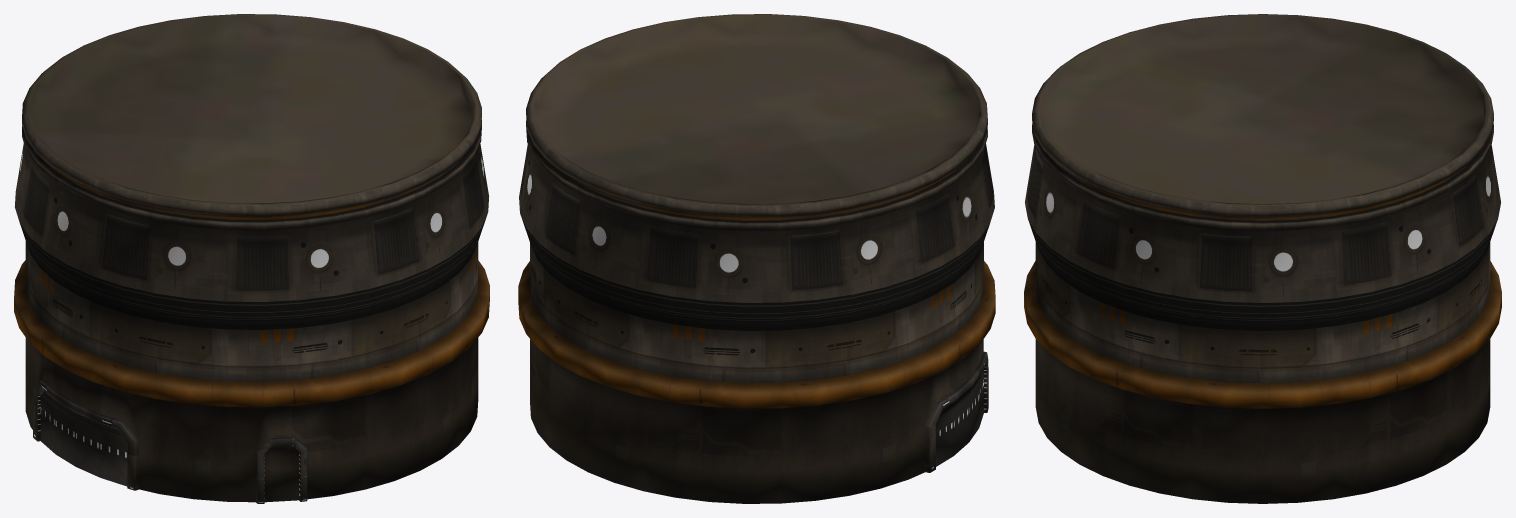
Rendered from tower_base1.glb.
3 views of the same model, side by side, from view 1: azimuth 30°, elevation 25°; view 2: azimuth 150°, elevation 25°; view 3: azimuth 270°, elevation 25° (orthographic).
Parts seen in each view (by area): view 1: objBase001; view 2: objBase001; view 3: objBase001.
Part boxes in pixels (<box>): objBase001: <box>14,14,489,503</box>; objBase001: <box>518,14,995,503</box>; objBase001: <box>1024,14,1501,503</box>.
Size of the model in its own units: 75.6 by 52.04 by 75.6.
1 material, 1 textured.
